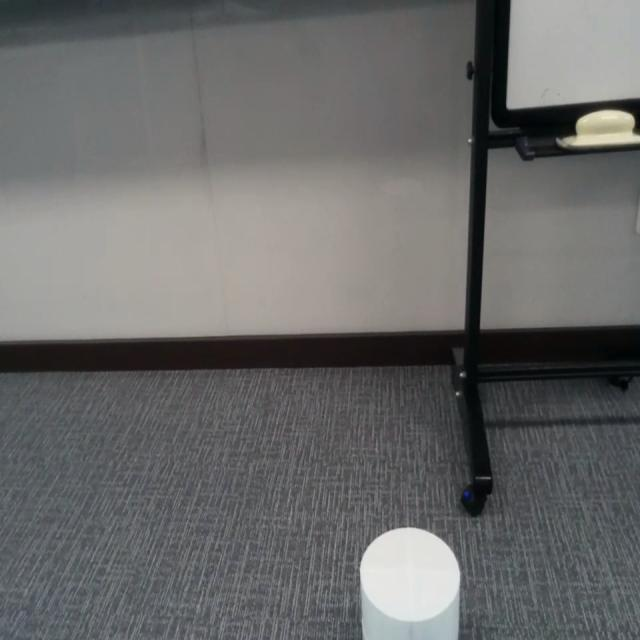cylinder: (359, 526, 462, 640)
